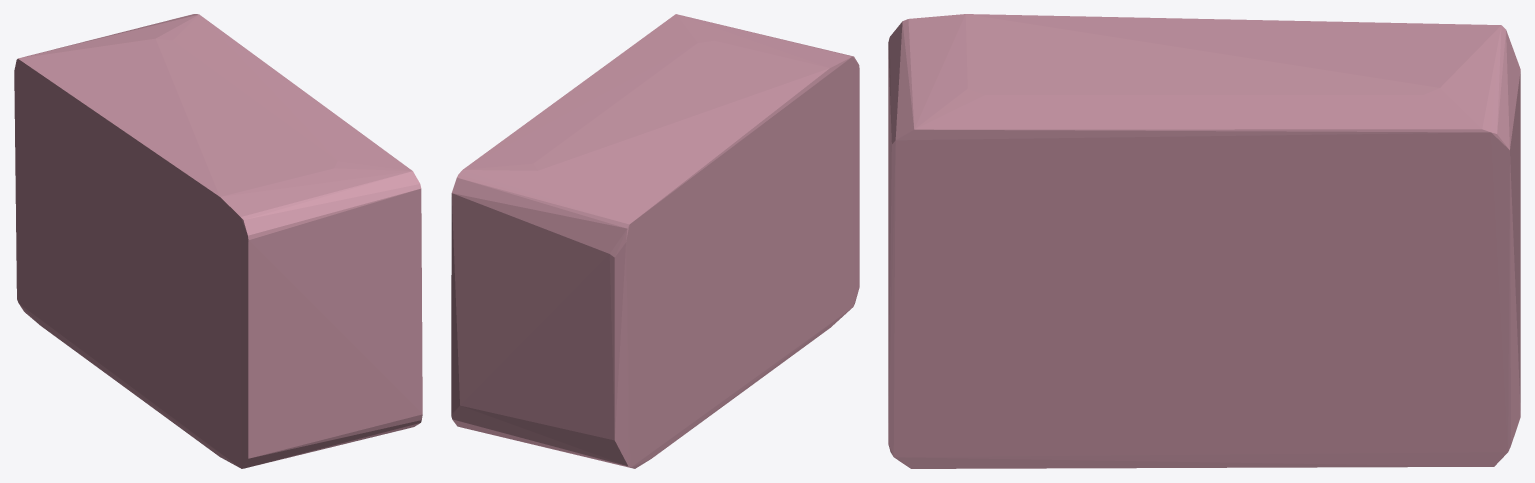
The model's file is cabinet_file_d02.glb.
3 views of the same model, side by side, from view 1: azimuth 30°, elevation 25°; view 2: azimuth 150°, elevation 25°; view 3: azimuth 270°, elevation 25° (orthographic). The views are drawn at different scales.
Visible parts, largest first — view 1: geometry_0; view 2: geometry_0; view 3: geometry_0.
Part boxes in pixels (left/top/right/bottom): geometry_0: left=14, top=14, right=422, bottom=468; geometry_0: left=451, top=14, right=859, bottom=468; geometry_0: left=888, top=14, right=1520, bottom=468.
Size of the model in its own units: 0.2039 by 0.2898 by 0.4799.
